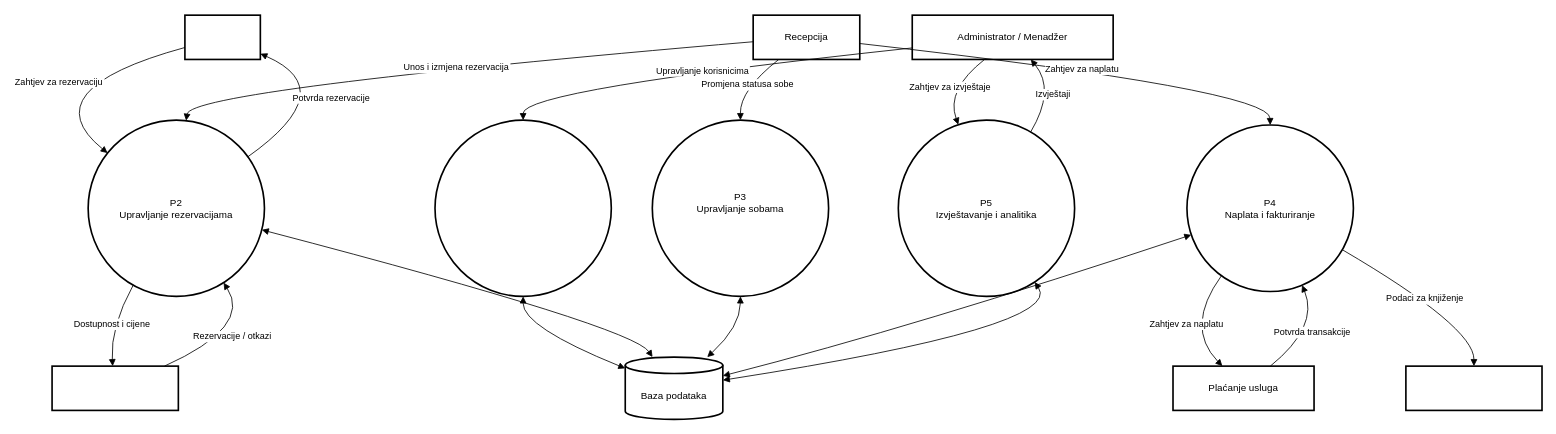
This 1556x434 diagram has some shape labels left out. The shapes that lost their labels are listed below. From the top down, each one's centre as x and y in pixels, then its label:
At (222,37): "Gost".
At (523,208): "P1 Upravljanje korisnicima".
At (115,388): "Online kanali".
At (1473,388): "Računovodstvo".
